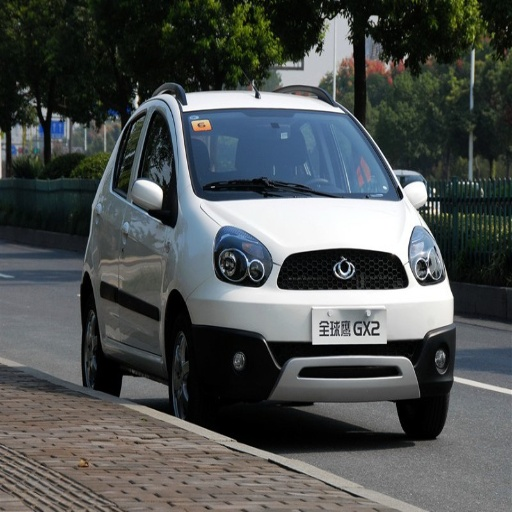front_bumper: (243, 250, 453, 398)
front_left_light: (407, 228, 446, 283)
front_right_door: (120, 96, 177, 353)
hood: (204, 200, 418, 257)
